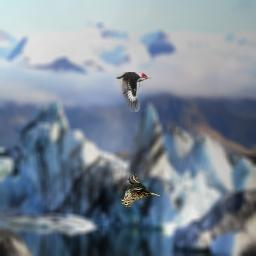Sparrow: (120, 173, 160, 207)
Woodpecker: (116, 72, 152, 112)
